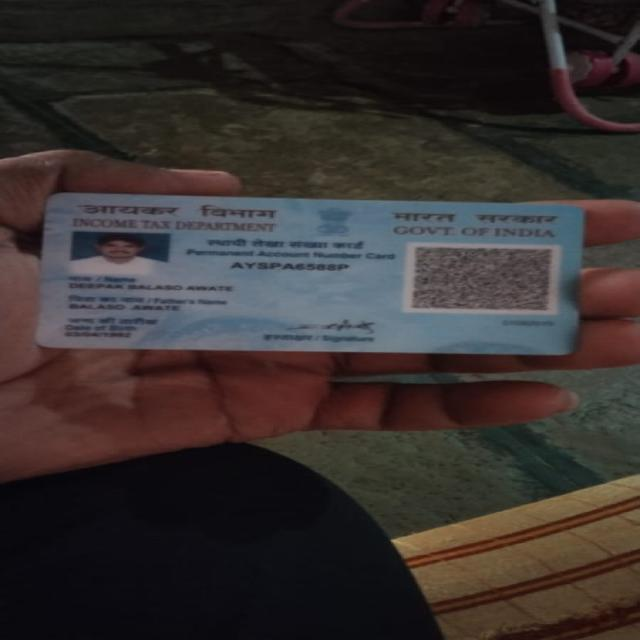pan_card: (30, 193, 586, 354)
